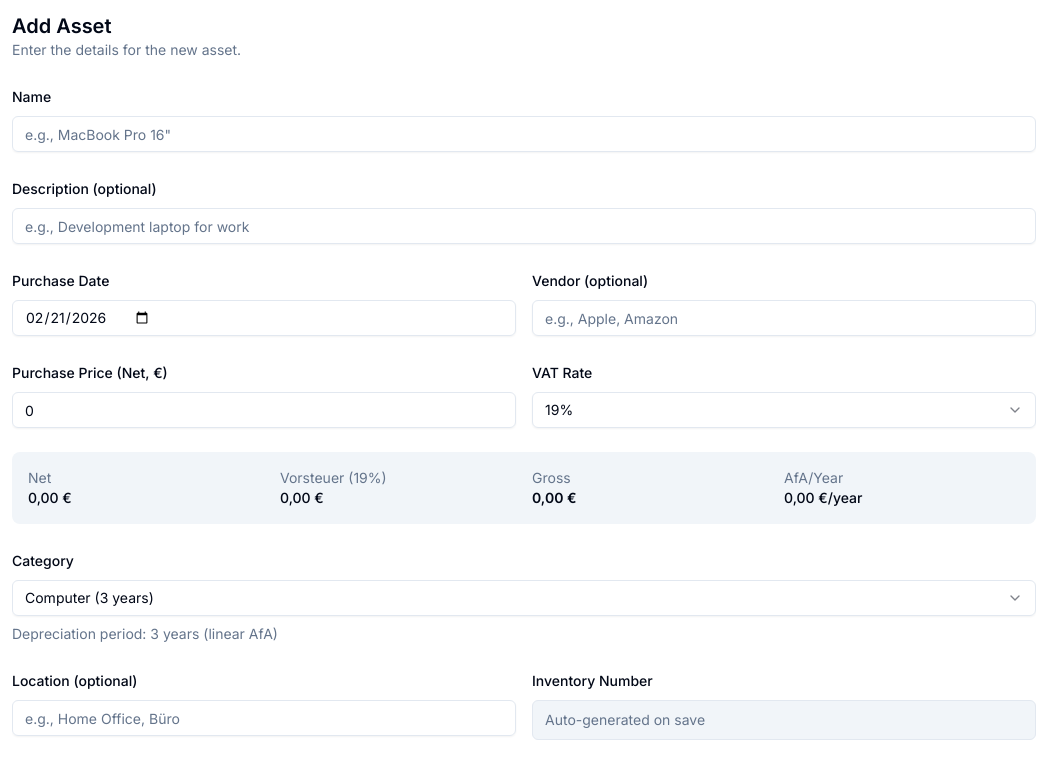
Test: AssetForm › category and AfA years › shows all asset categories
# Open the dropdown to see all options
Click the dropdown named "category" at (89, 598), box [12,580,1036,616]
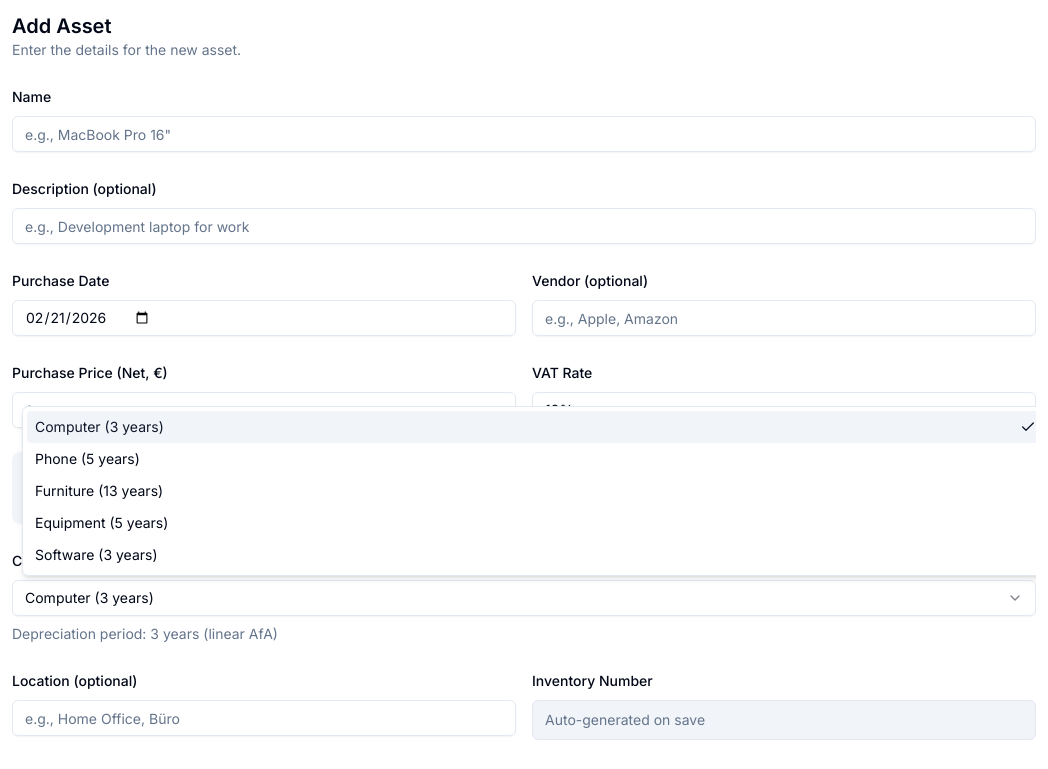
Expected: the option "Phone (5 years)" is shown, [35,450,140,467]
Expected: the option "Furniture (13 years)" is shown, [35,482,163,499]
Expected: the option "Equipment (5 years)" is shown, [35,514,168,531]
